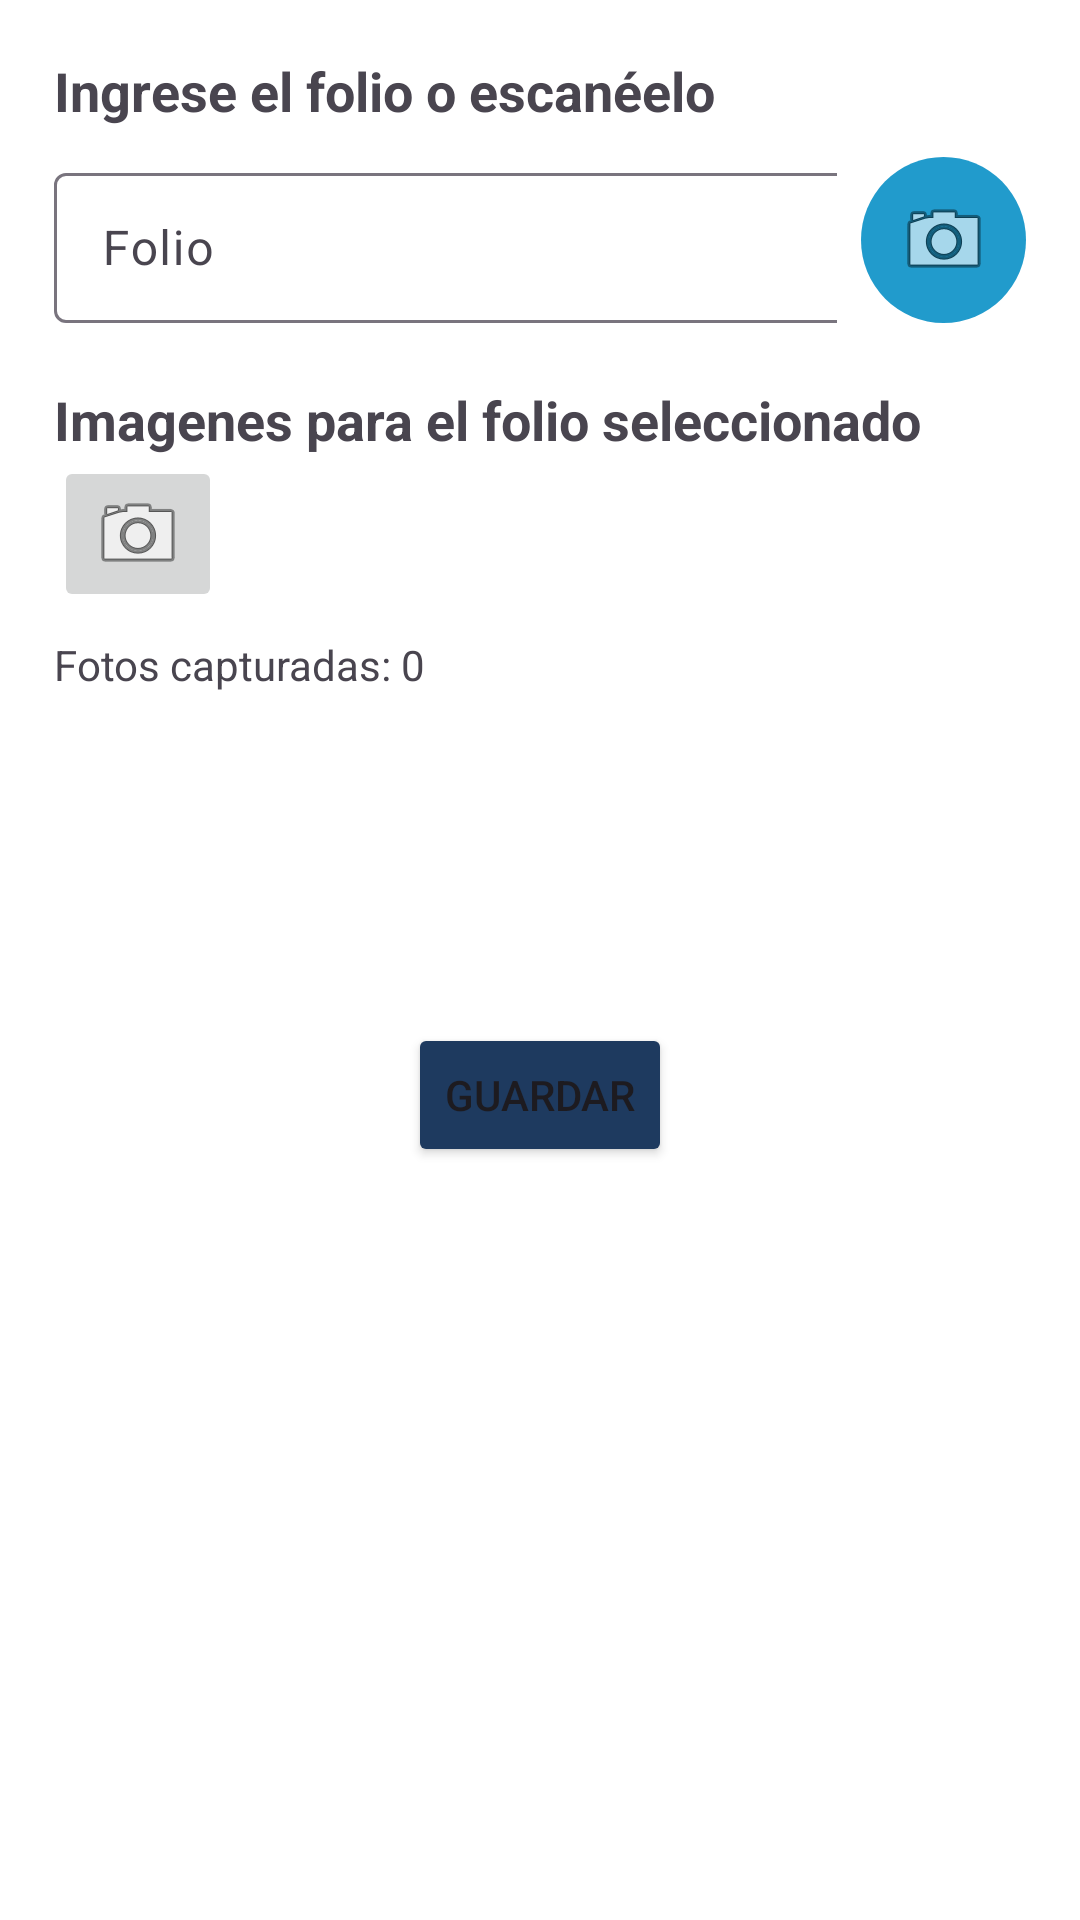

Named icons in this screenshot (1080 × 1920) and their centers, [x,y]:
Capturar imagenes: [138,534]
